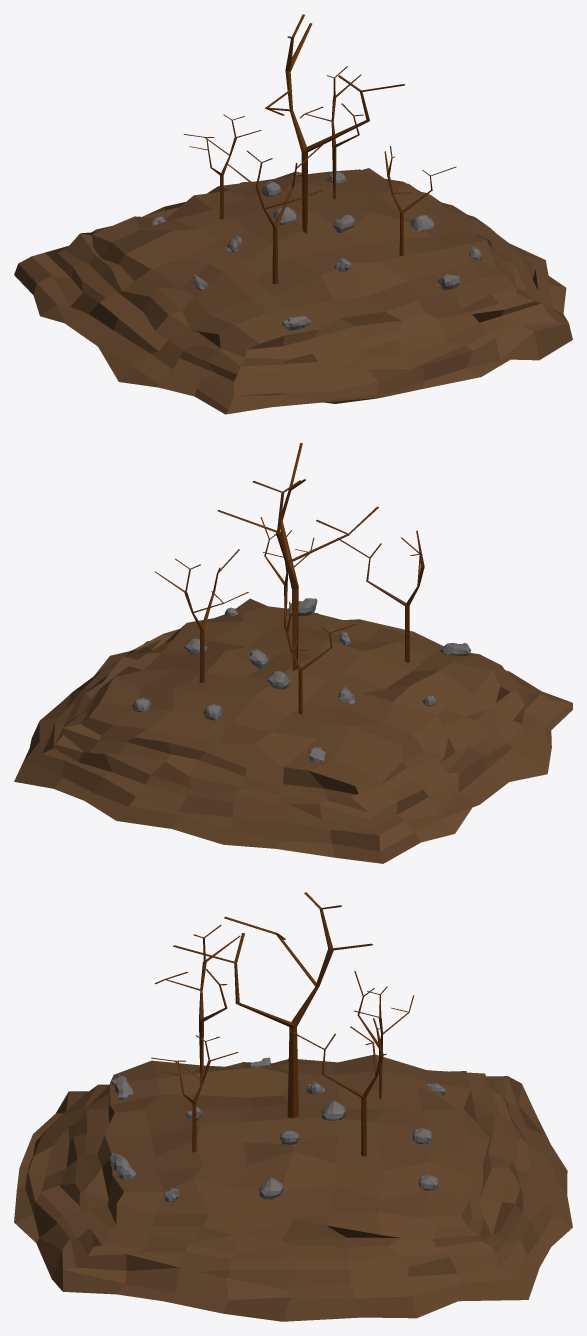
Rendered from dead state.fbx.
The picture shows the model from 3 angles, top to bottom: view 1: azimuth 30°, elevation 25°; view 2: azimuth 150°, elevation 25°; view 3: azimuth 270°, elevation 25°; orthographic projection. The views are drawn at different scales.
Parts seen in each view (by area): view 1: dead state; view 2: dead state; view 3: dead state.
Boxes of the visible parts, x1,y1,x2,y2 form: dead state: [14, 14, 572, 414]; dead state: [14, 443, 572, 863]; dead state: [14, 892, 572, 1321].
Bounding box in the file's own units: 204 × 125 × 202.
